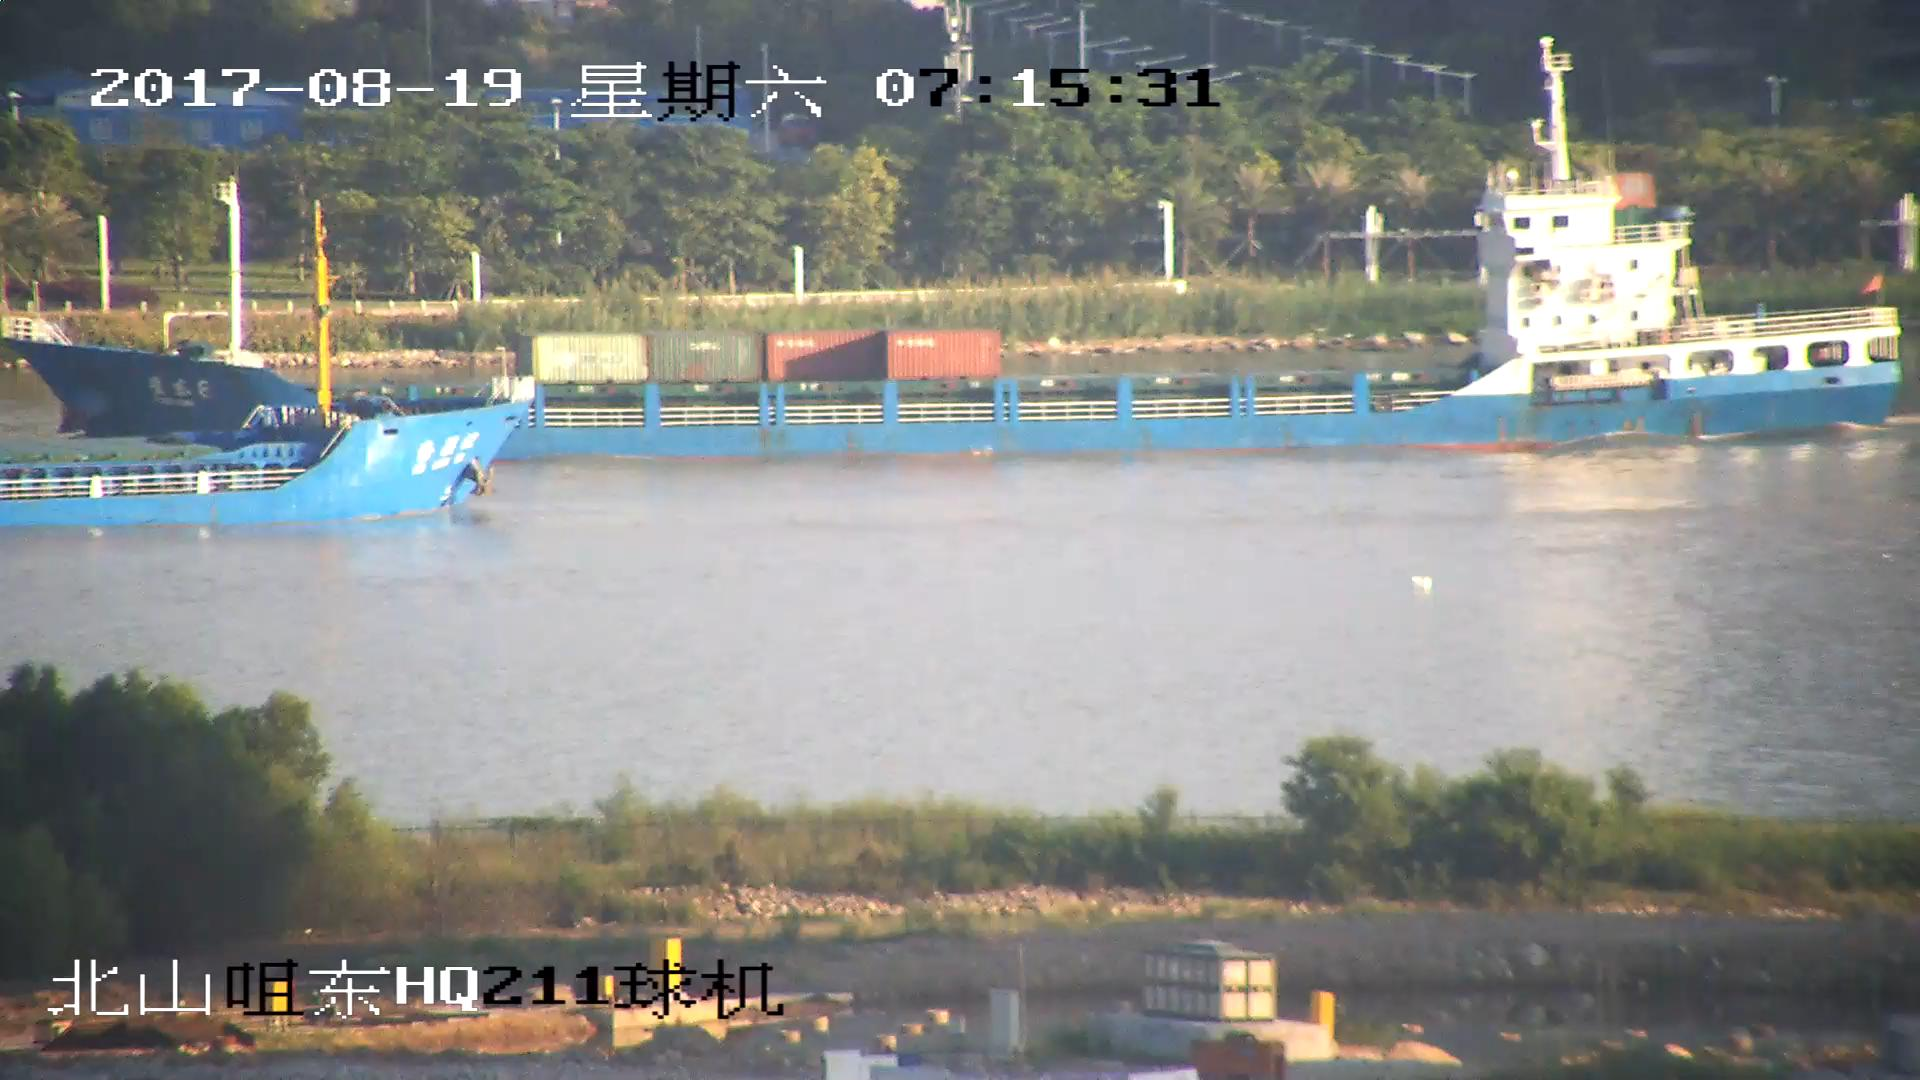general cargo ship: (1, 109, 1905, 462), (1, 194, 532, 533)
